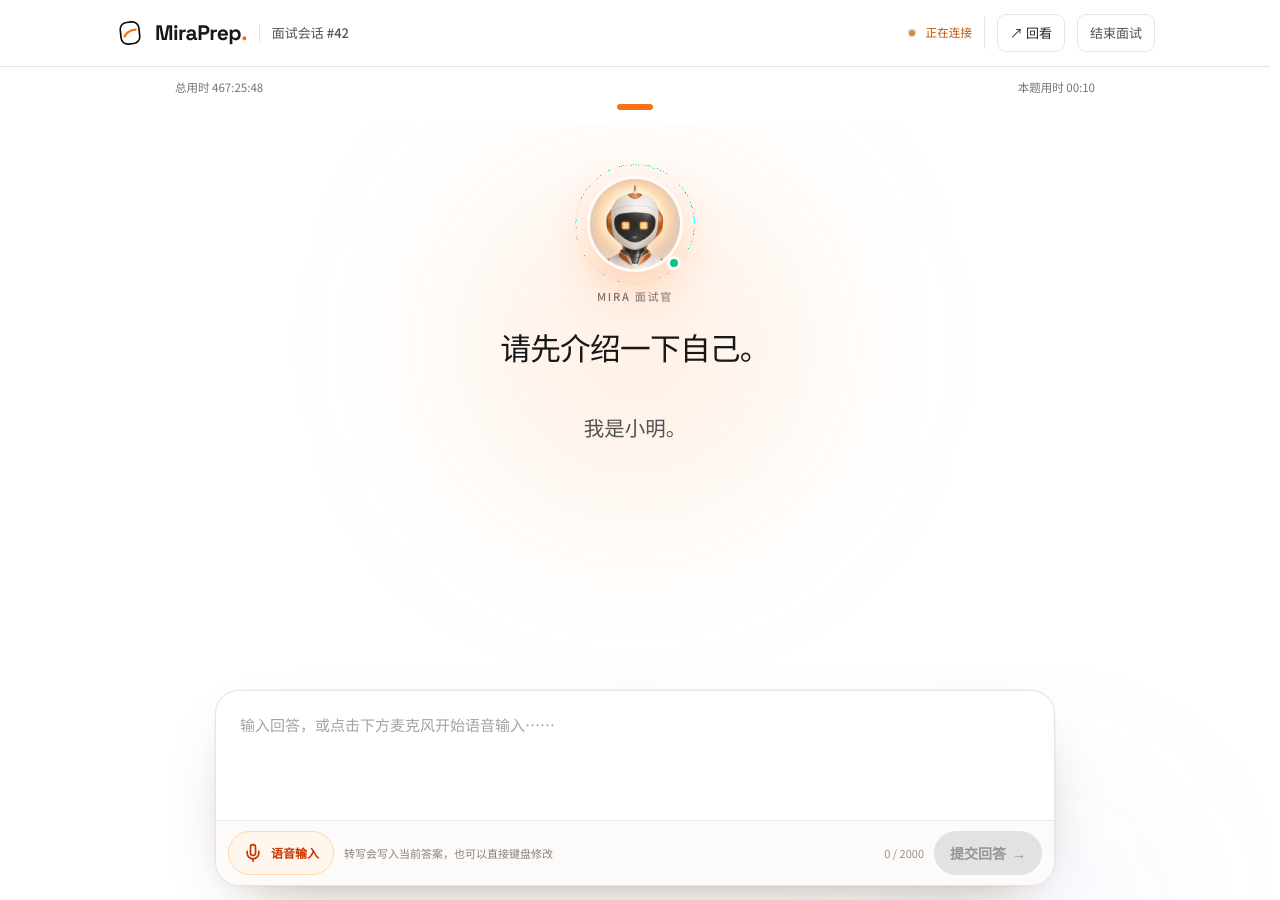
Scenario: InterviewClient runtime › submits text, keeps a stable answer id, and shows it in real history
Expected: the text "请先介绍一下自己。" is shown, 500,324 -> 770,370
Type "这是我的新回答" into the text box named "你的回答" at (635, 753), box 216,691 -> 1054,815
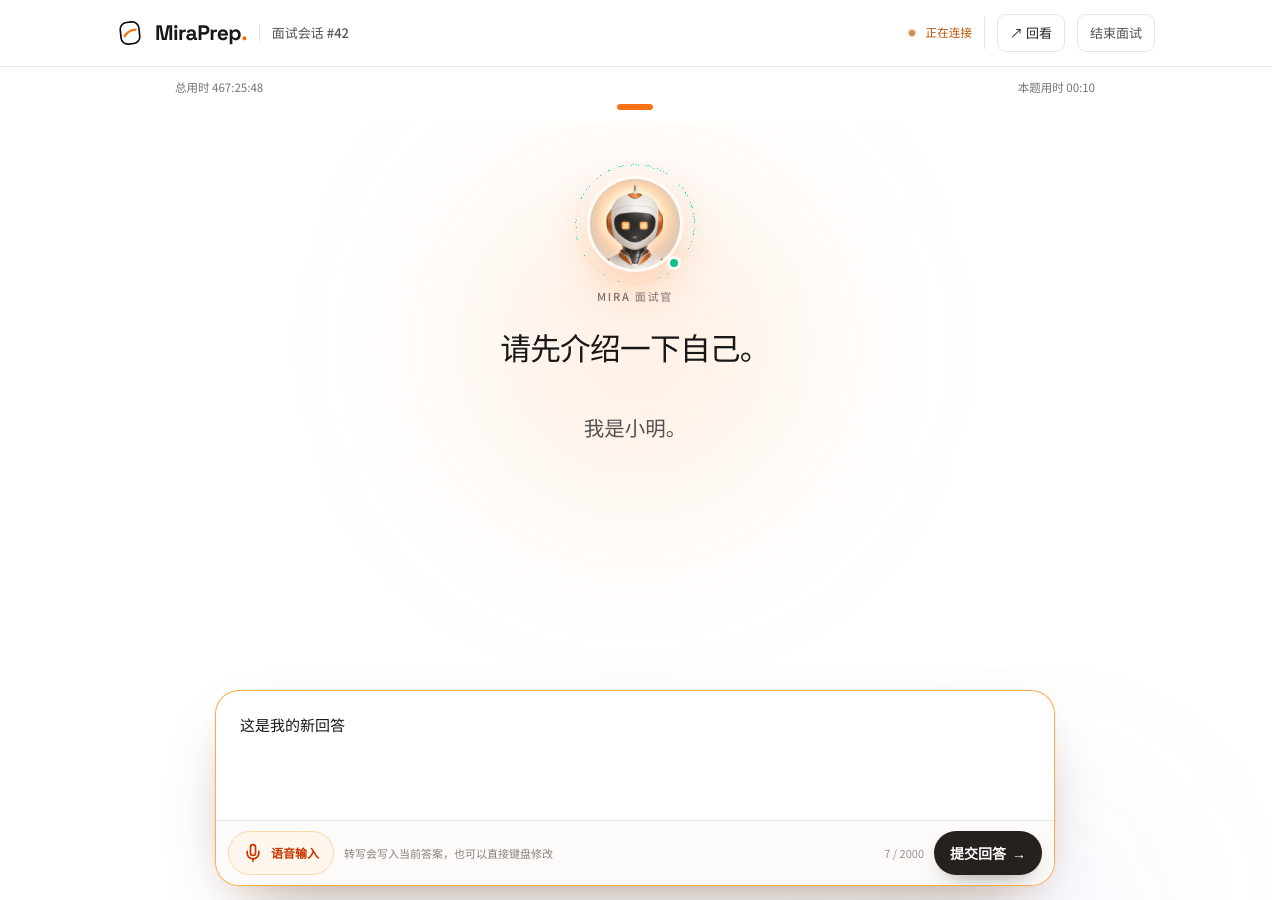
Click the button "提交回答 →" at (988, 853), box 934,831 -> 1042,875
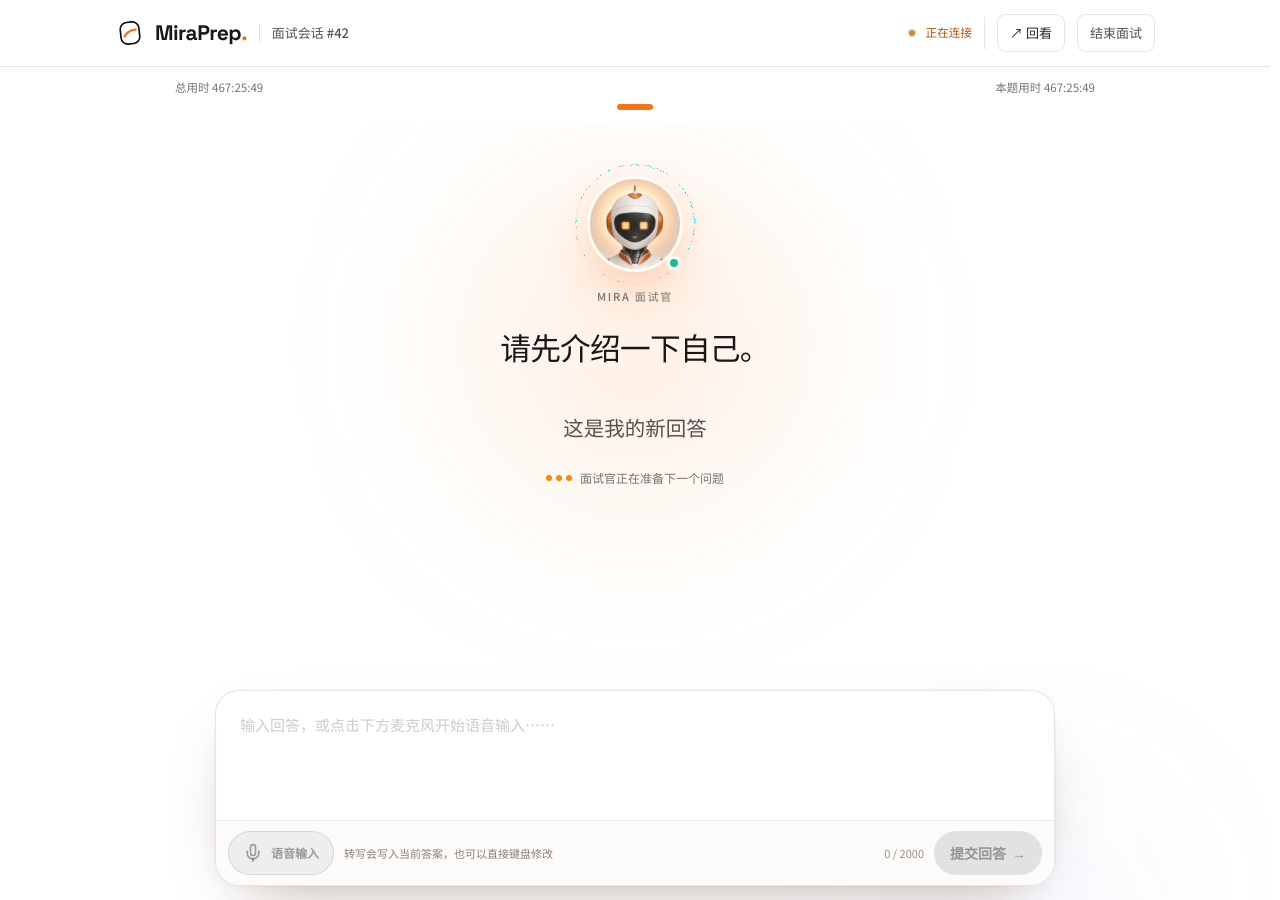
Expected: the text "这是我的新回答" is shown, 563,412 -> 707,442
Expected: the text box named "你的回答" is empty, 216,691 -> 1054,815
Expected: the text box named "你的回答" is disabled, 216,691 -> 1054,815
